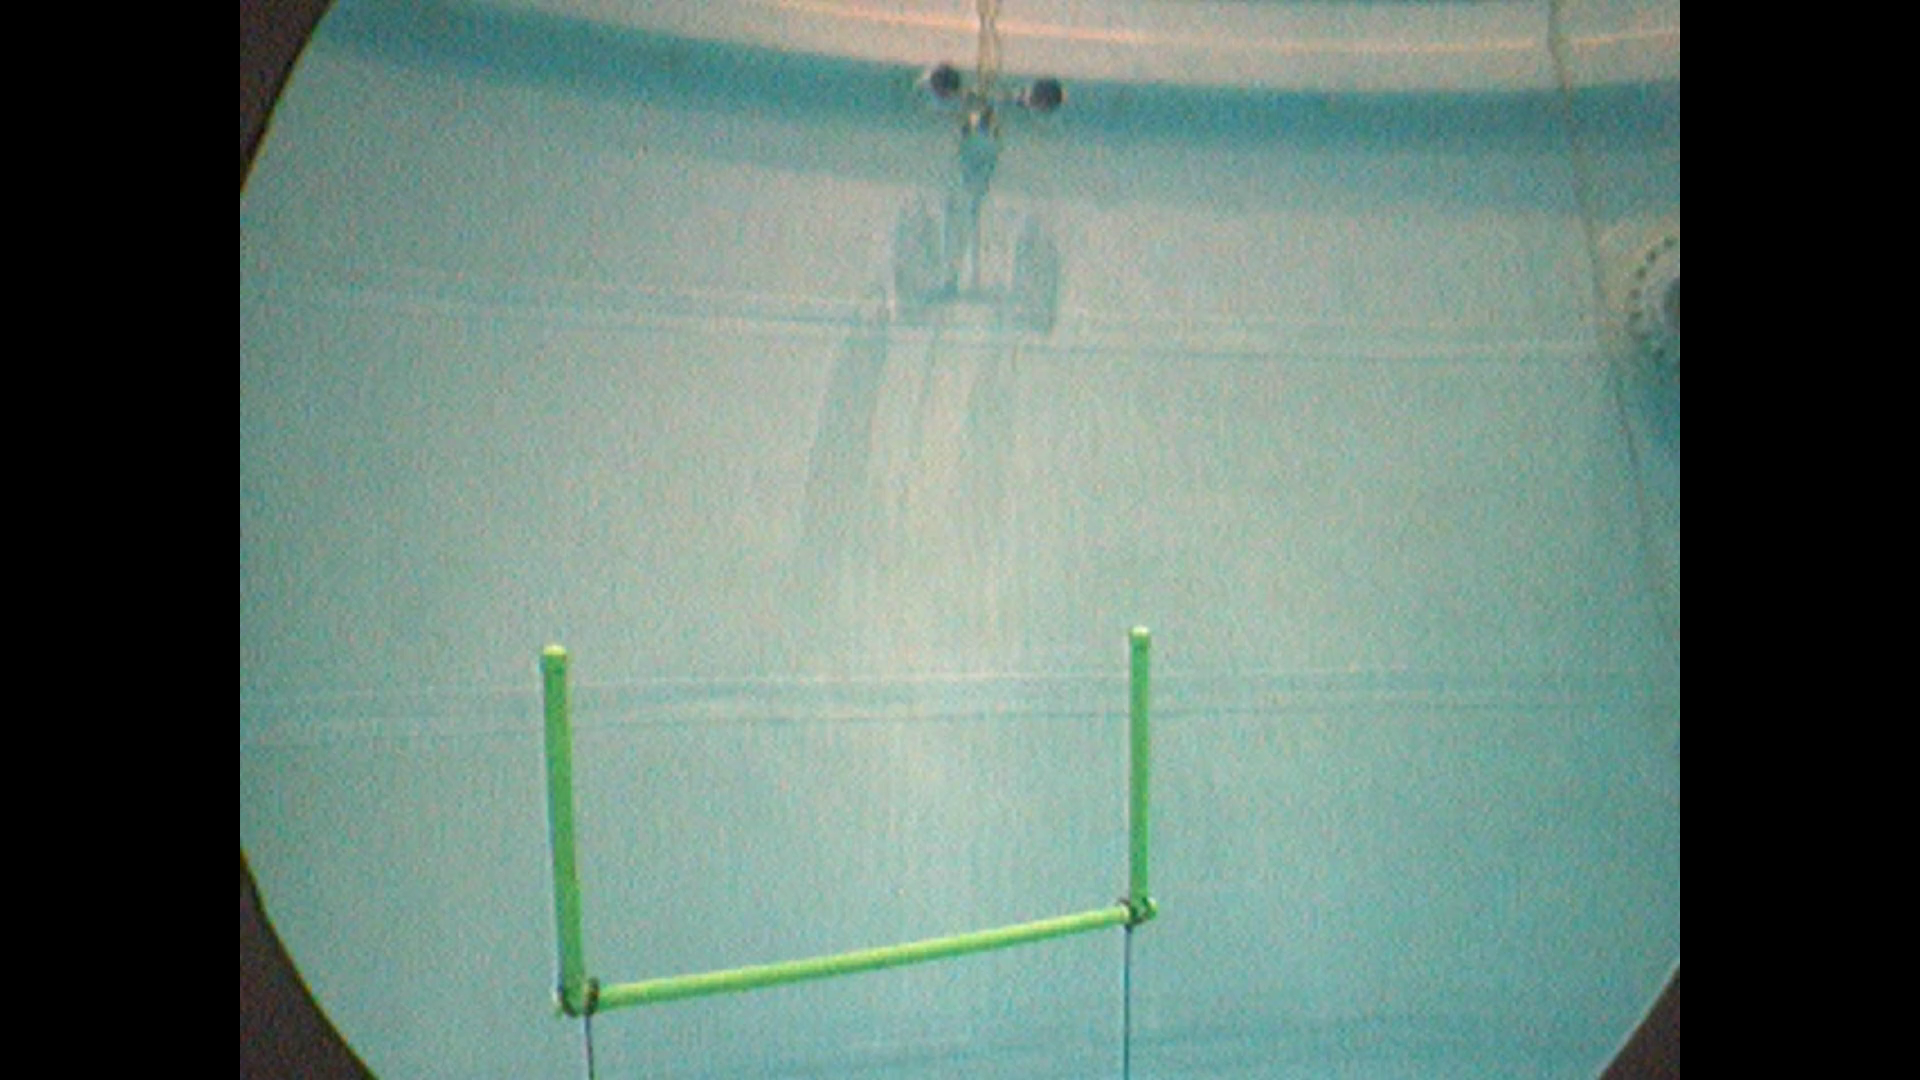gate: (539, 620, 1158, 1031)
